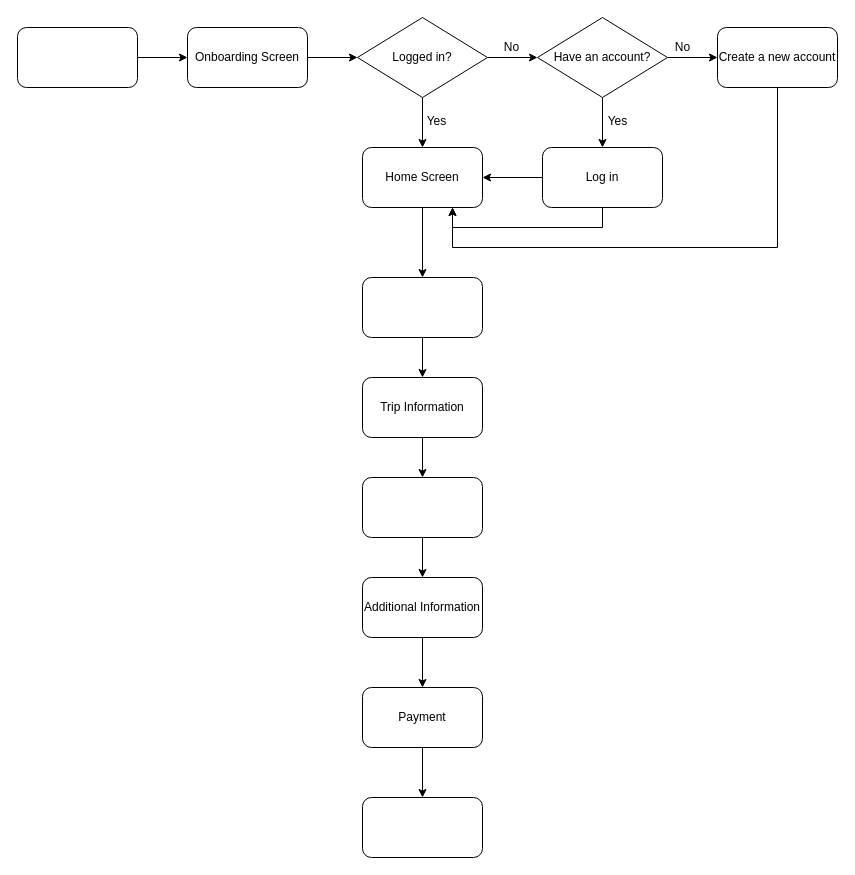
Some shapes in this 855 by 875 pixel diagram are drawn without their labels. Each missing label, with the centre of its shape:
Airport Transfer Service: the point at 422,307
Booking Result: the point at 422,827
Package Option: the point at 422,507
Splash Screen: the point at 77,57
